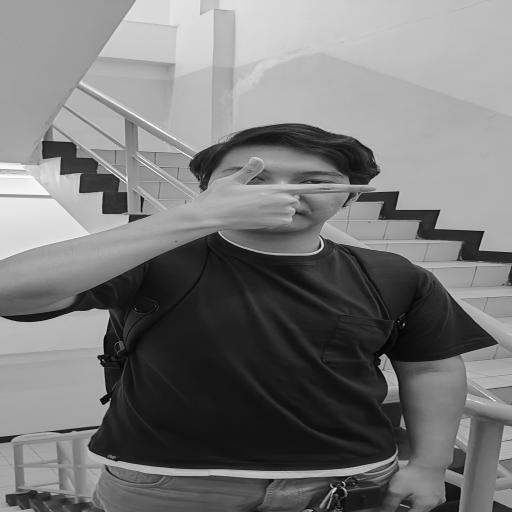next: (167, 148, 400, 237)
